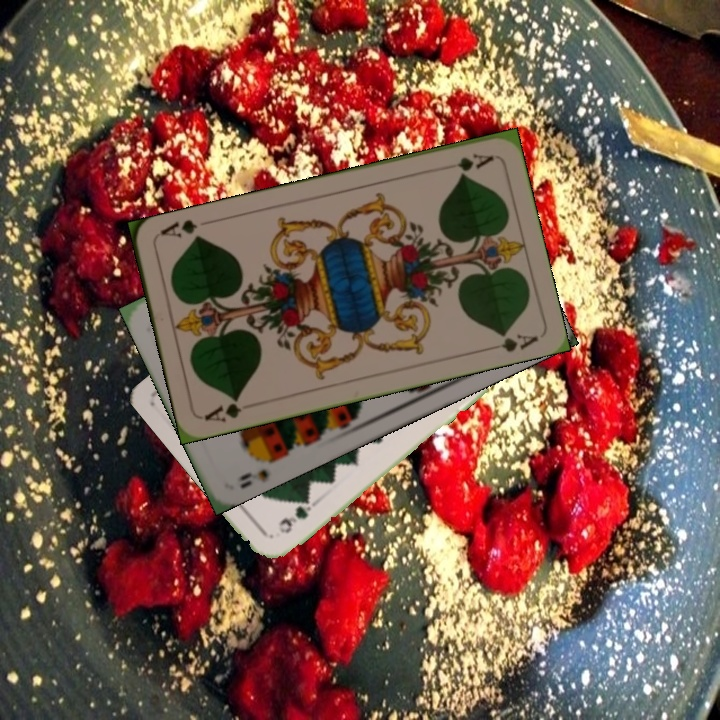G9: (274, 493, 321, 537)
GA: (200, 393, 244, 425), (453, 149, 496, 176)
S9: (235, 454, 283, 491)
